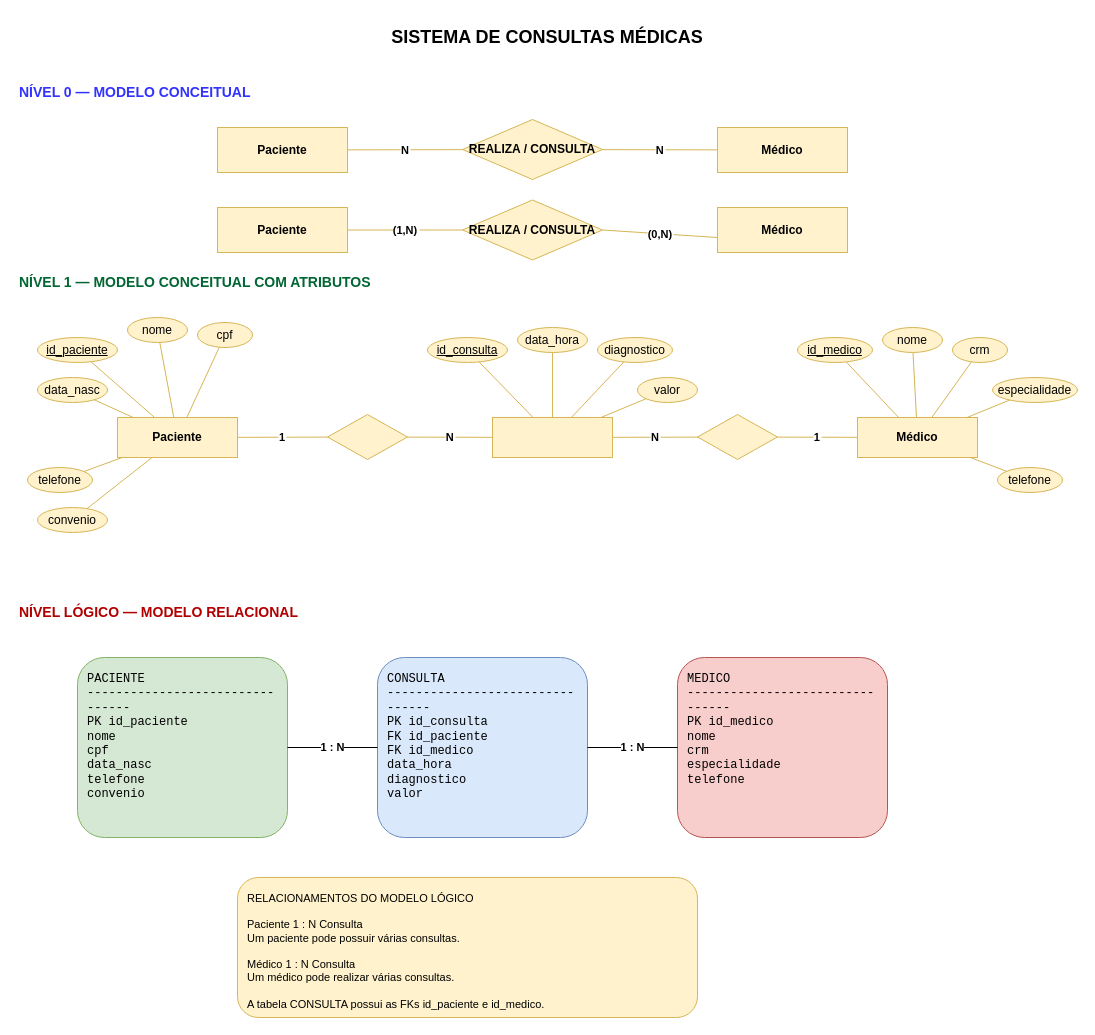
Some shapes in this 1095 by 1035 pixel diagram are drawn without their labels. The centre of each missing label's shape, as x and y in pixels:
"ATENDE" belongs at pixel 737 437.
"Consulta" belongs at pixel 552 437.
"TEM" belongs at pixel 367 437.
